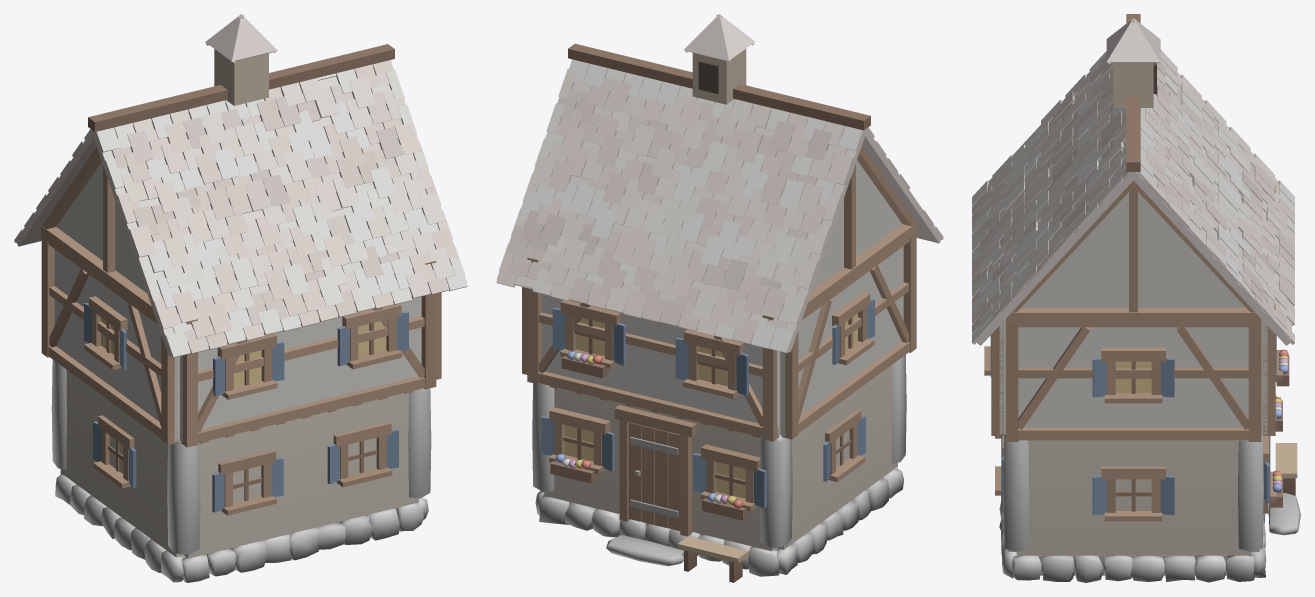
The model's file is hw_medieval_scriptorium.glb.
The picture shows the model from 3 angles, left to right: view 1: azimuth 30°, elevation 25°; view 2: azimuth 150°, elevation 25°; view 3: azimuth 270°, elevation 25°; orthographic projection. The views are drawn at different scales.
Visible parts, largest first — view 1: Building; view 2: Building; view 3: Building.
Part boxes in pixels (x1,y1,x2,y2): Building: (14,14,467,582); Building: (496,14,943,582); Building: (972,14,1300,582).
Size of the model in its own units: 3.9 by 6.2 by 3.66.
